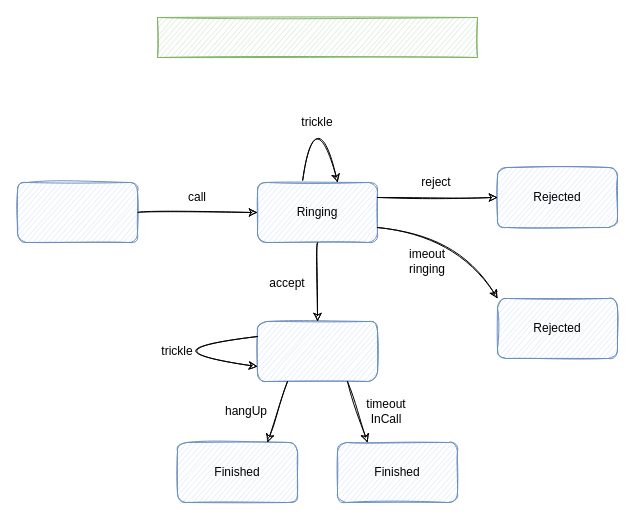
Some shapes in this 635 by 520 pixel diagram are drawn without their labels. Here are the shapes that lost their labels. From the top down, the box of each, then its label:
(156, 16, 478, 58): Call State Diagram
(16, 182, 138, 242): Idle
(256, 320, 378, 382): InCall
